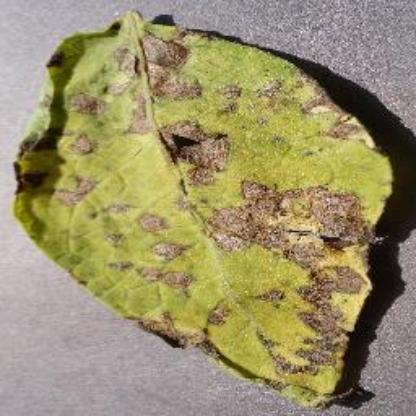Early-Blight: (12, 13, 392, 404)
